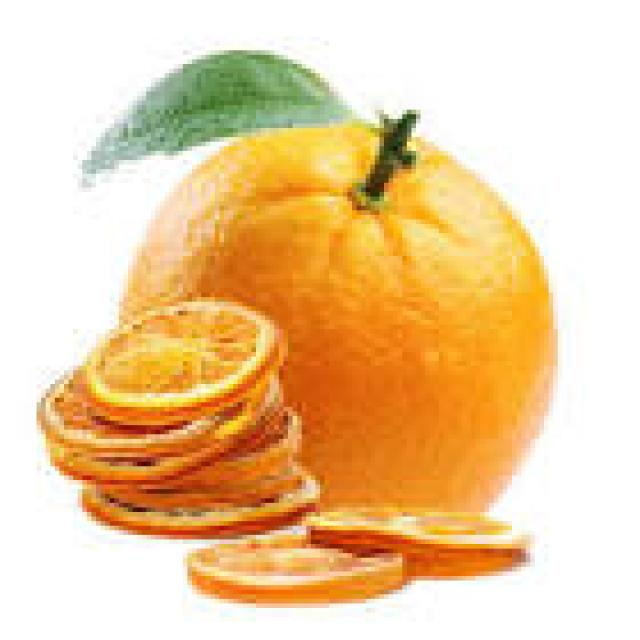orange: (87, 51, 554, 509)
